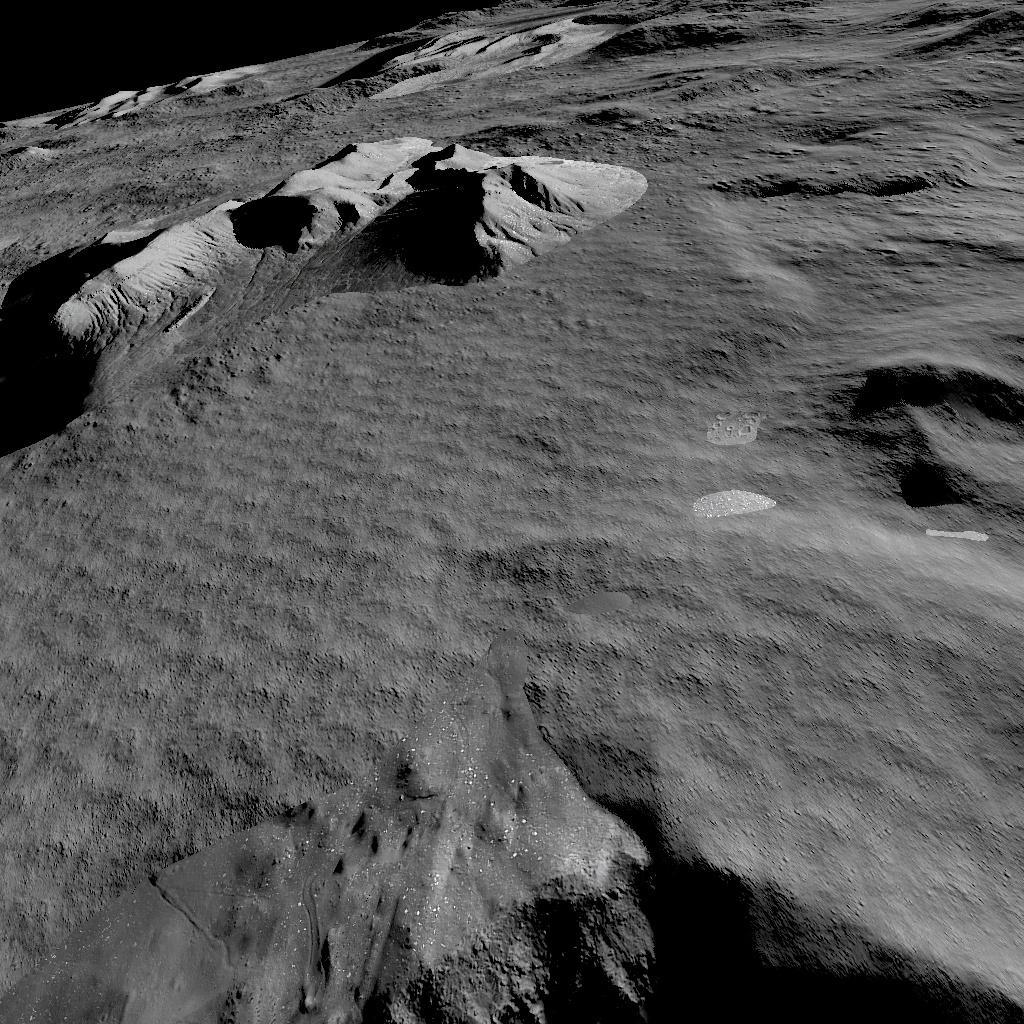Boulders: (0, 138, 657, 408), (332, 0, 1024, 104), (39, 44, 281, 126)
Crater: (0, 717, 1024, 1024), (803, 350, 1024, 534), (710, 151, 942, 208)
Plan surface: (0, 482, 764, 688)
